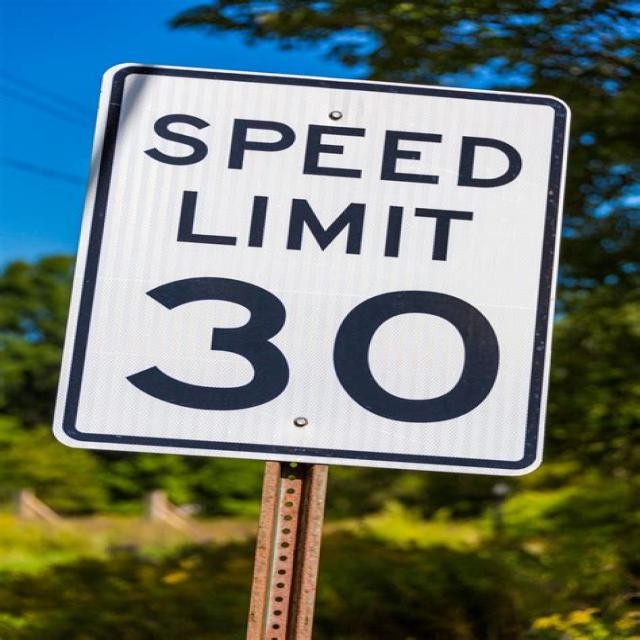speedLimit30: (52, 61, 570, 478)
